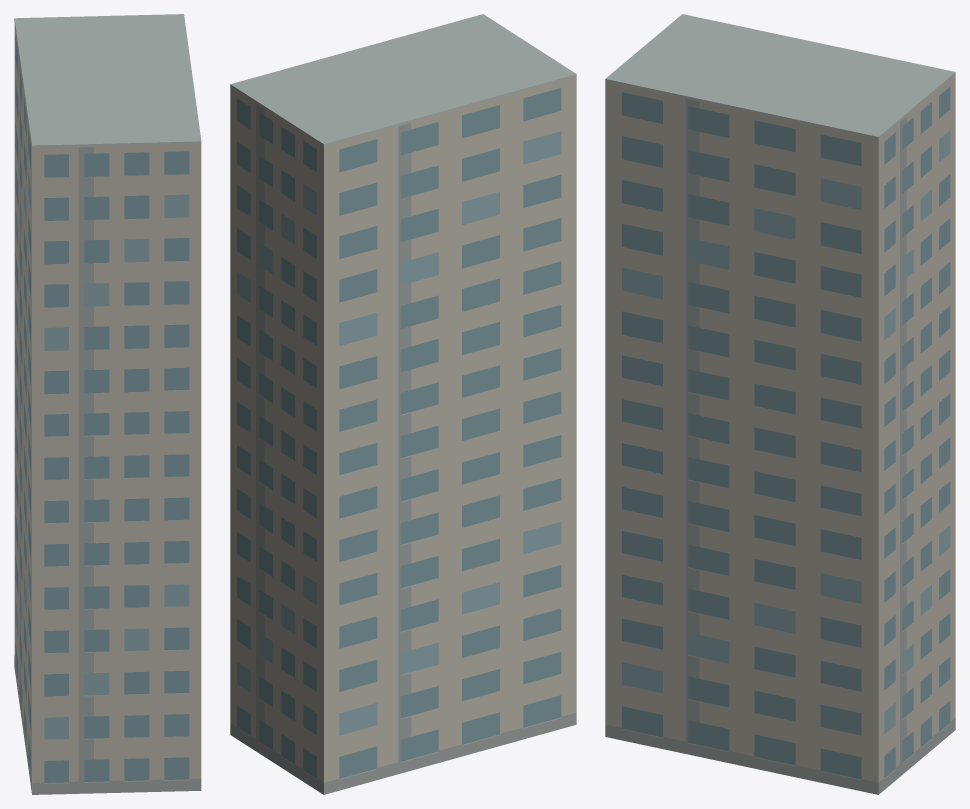
File: residential-3a2ec476-8f9a-4c57-b663-b6f66a116796.glb
3 views of the same model, side by side, from view 1: azimuth 30°, elevation 25°; view 2: azimuth 150°, elevation 25°; view 3: azimuth 270°, elevation 25° (orthographic).
Parts seen in each view (by area): view 1: residential-3a2ec476-8f9a-4c57-b663-b6f66a116796.tmp; view 2: residential-3a2ec476-8f9a-4c57-b663-b6f66a116796.tmp; view 3: residential-3a2ec476-8f9a-4c57-b663-b6f66a116796.tmp.
Part boxes in pixels (x1,y1,x2,y2): residential-3a2ec476-8f9a-4c57-b663-b6f66a116796.tmp: [14, 14, 201, 794]; residential-3a2ec476-8f9a-4c57-b663-b6f66a116796.tmp: [230, 14, 576, 794]; residential-3a2ec476-8f9a-4c57-b663-b6f66a116796.tmp: [605, 14, 955, 794].
Bounding box in the file's own units: 22.05 × 55 × 26.56.
